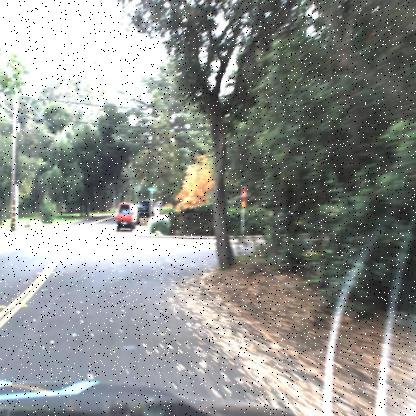car: (114, 201, 135, 232), (136, 197, 153, 221)
